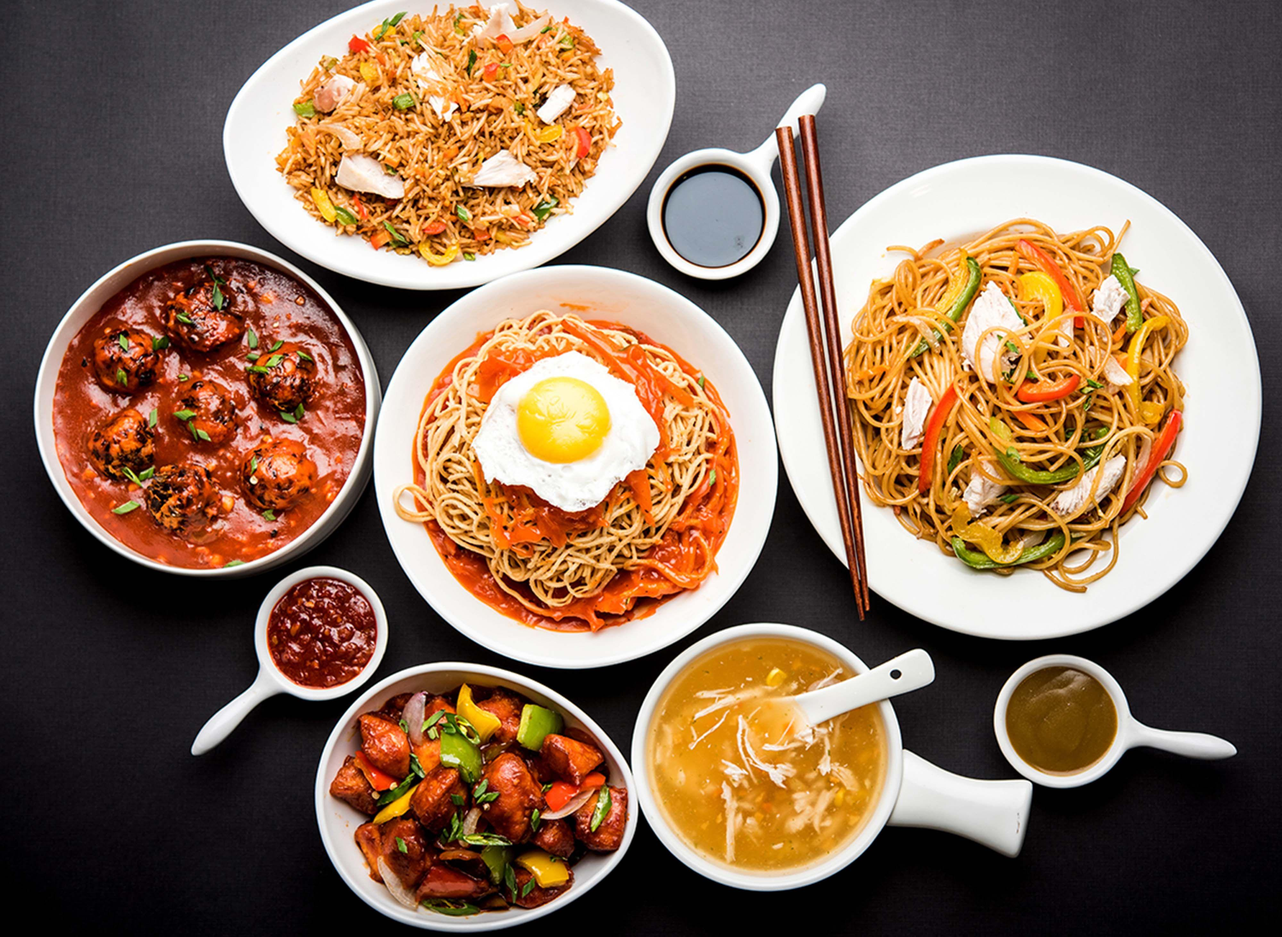Braised Crucian Carp: (815, 152, 1261, 643), (370, 266, 772, 656), (221, 2, 657, 287), (29, 242, 372, 574), (314, 664, 640, 932), (641, 635, 894, 882)
